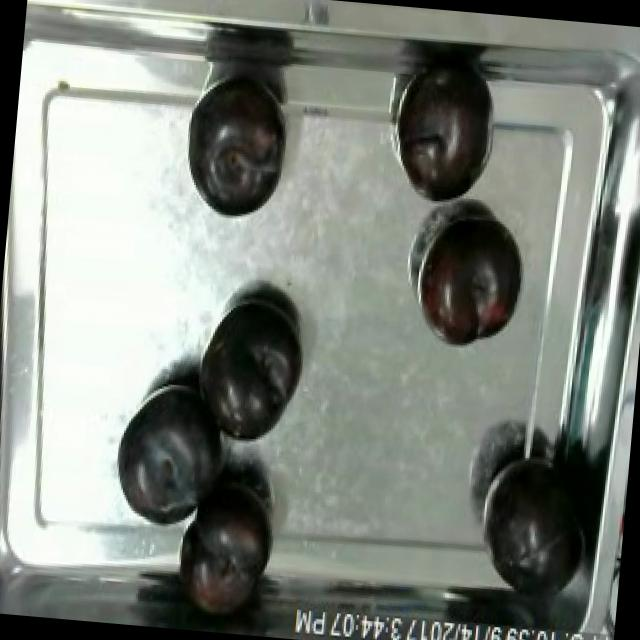Fruit: (105, 370, 236, 540), (185, 284, 314, 453), (472, 449, 599, 607), (410, 207, 532, 360), (169, 472, 282, 629), (384, 64, 500, 216), (178, 80, 292, 226)
